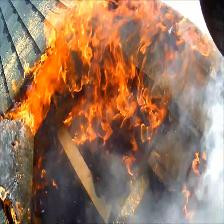fire: (51, 15, 154, 134), (25, 59, 49, 126)
smoke: (207, 160, 222, 220)
